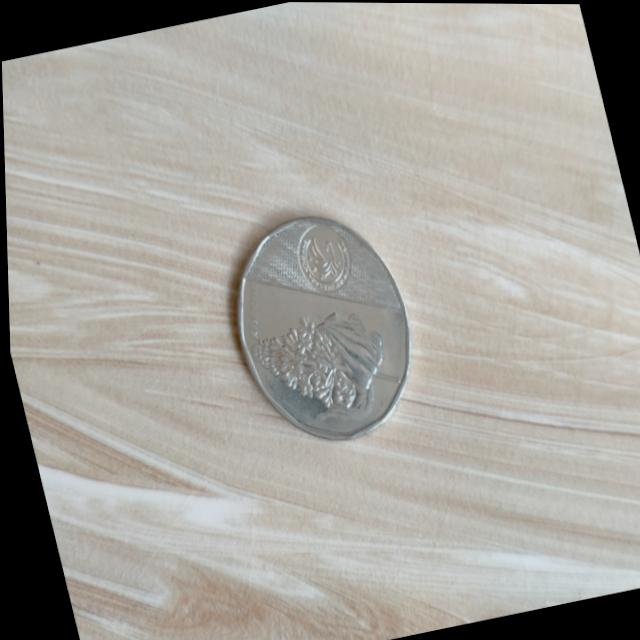10_New_Back: (239, 290, 414, 438)
